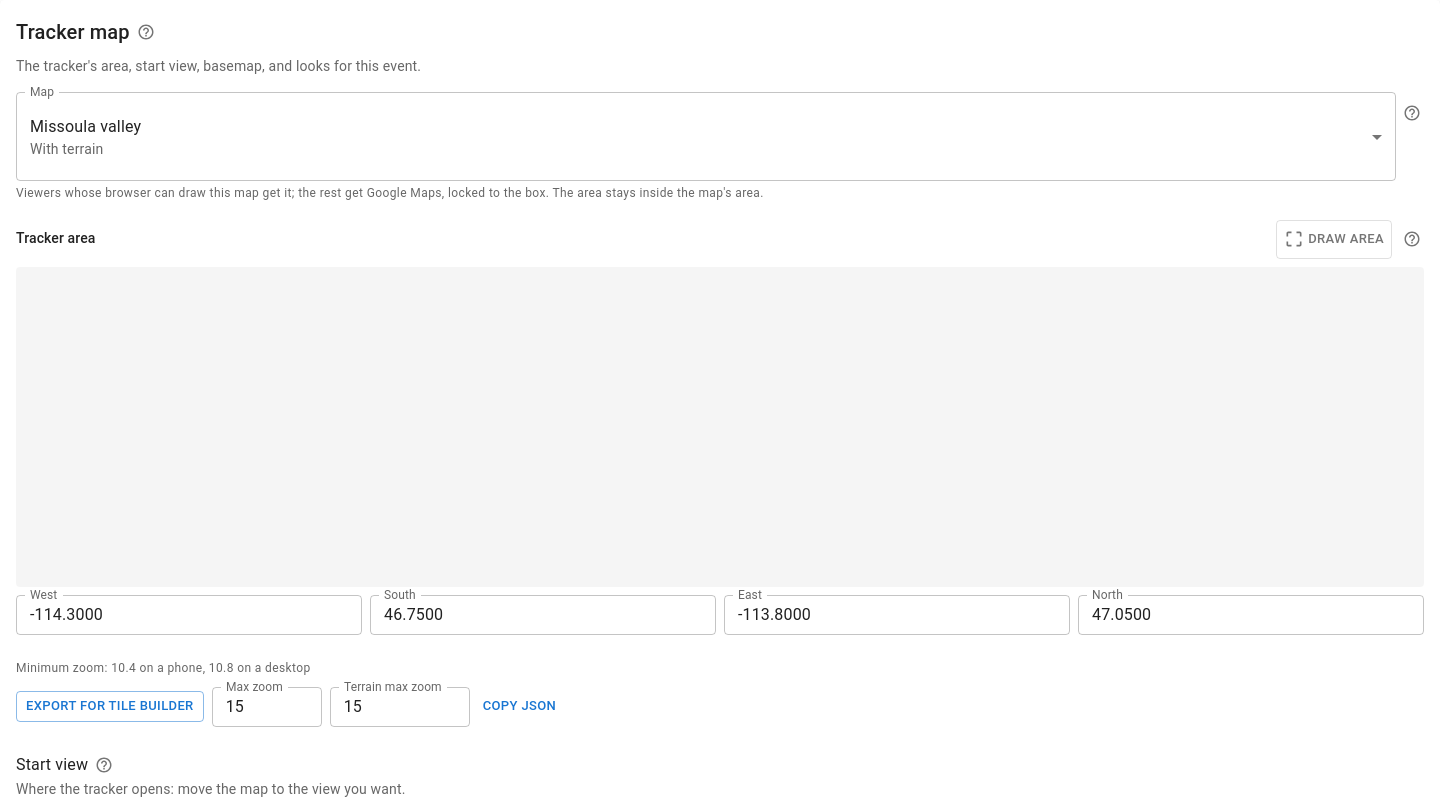
TrackerMapSection › lists No map and every ready map by name with its terrain word, and no pending map
Click the dropdown. click: (86,136)
box: [30,116,141,156]
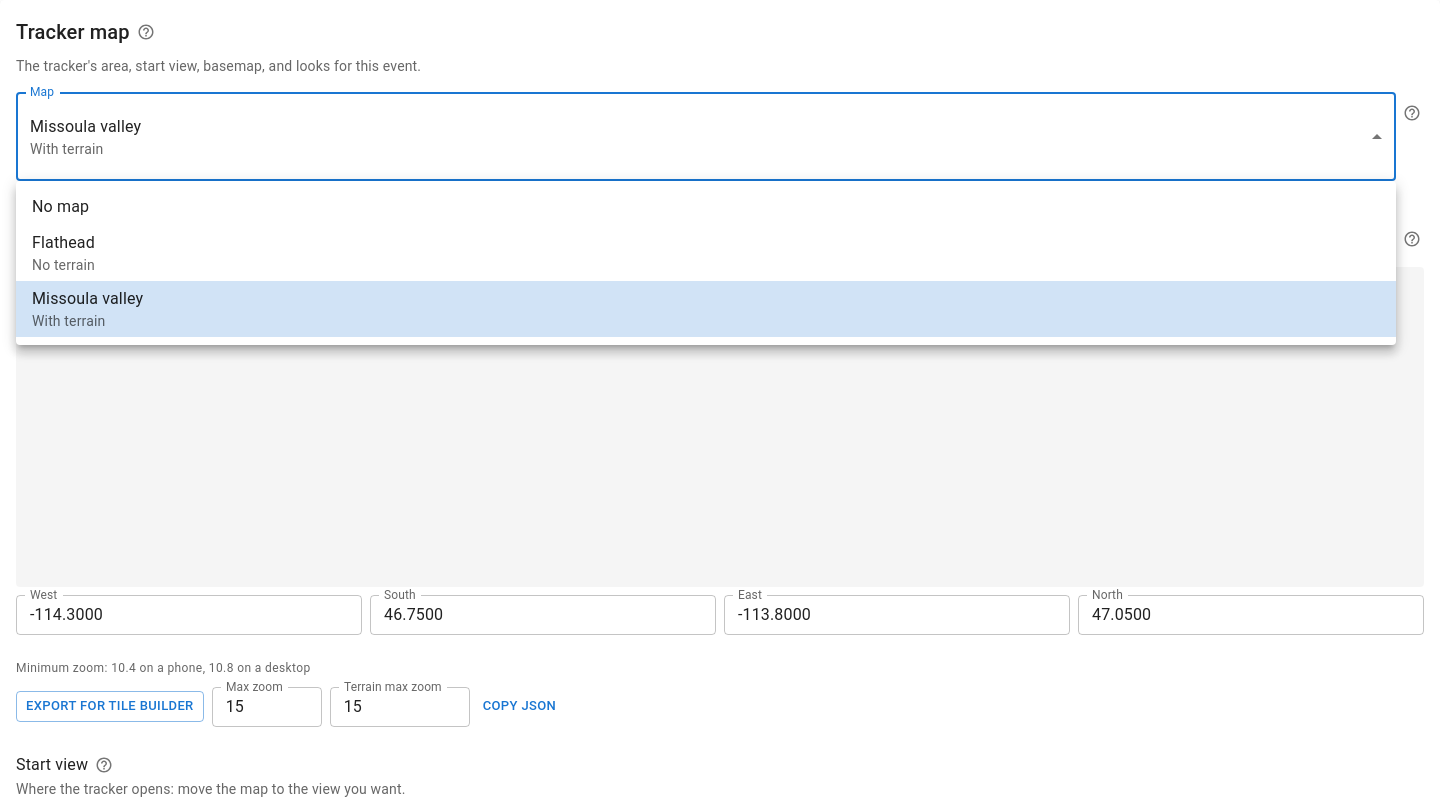
Check: the options read "No map", "FlatheadNo terrain", "Missoula valleyWith terrain", in this order
Click the option "No map". click: (61,206)
box: [32,197,89,216]
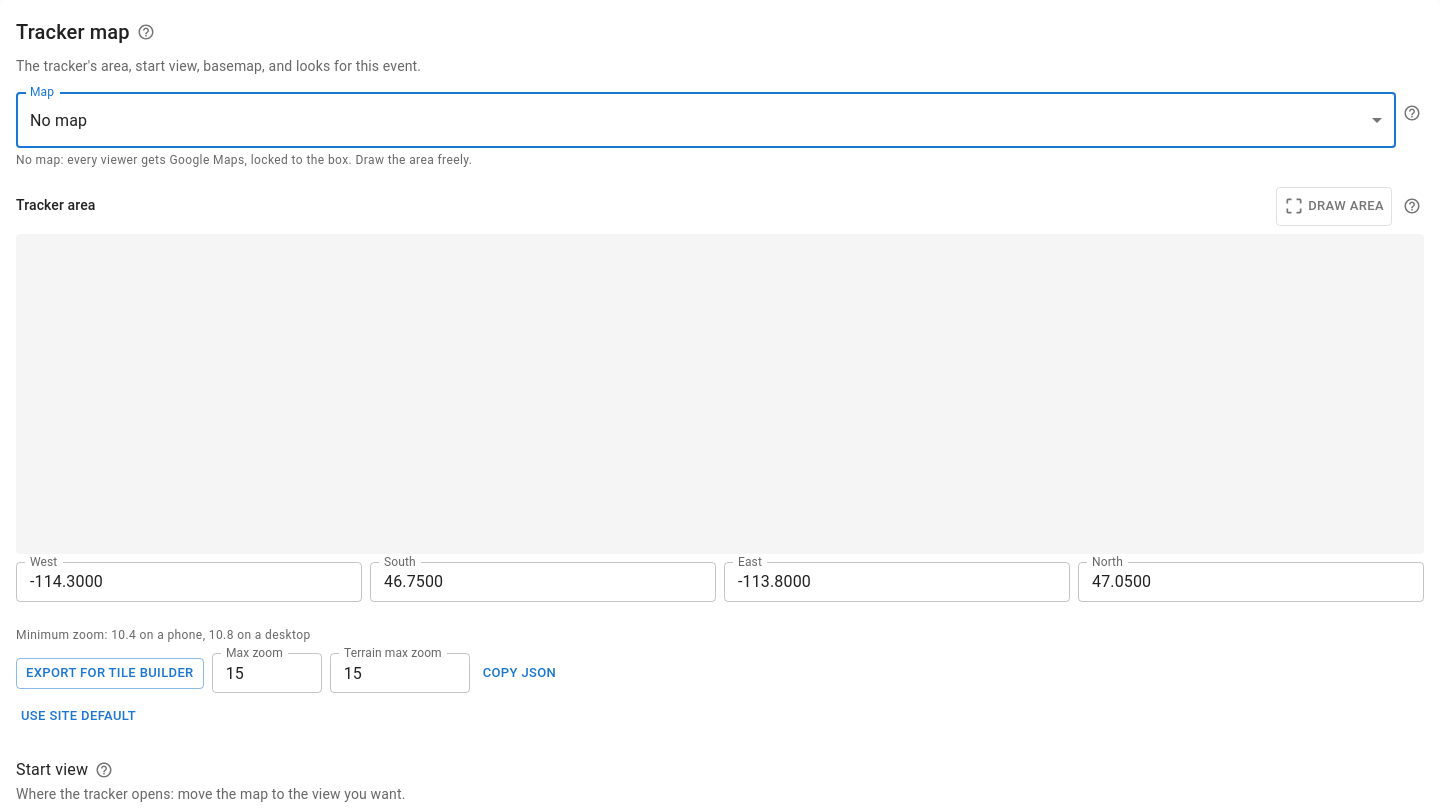
Check: the text with test id "tracker-map-note" shows "No map: every viewer gets Google Maps, locked to the box", box [16,153,472,167]
